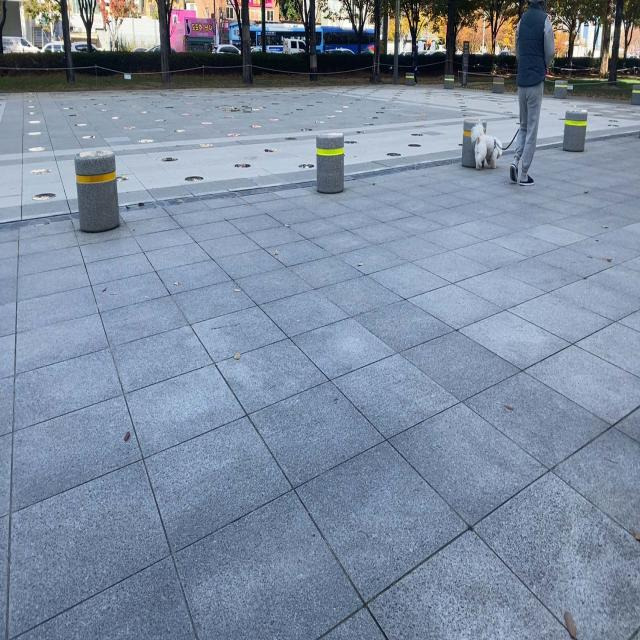Leashed_Dog: (471, 106, 529, 171)
